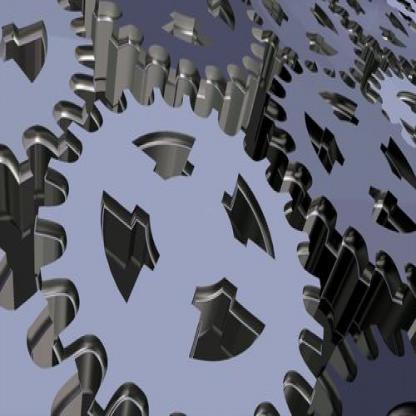FOD: (32, 83, 324, 414)
